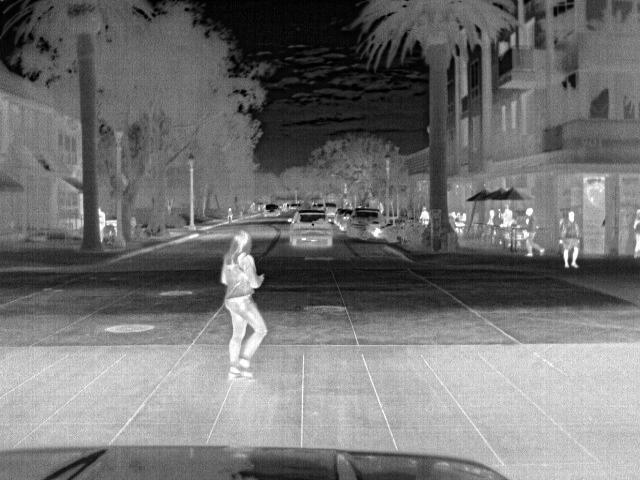car: (286, 208, 332, 249), (345, 206, 385, 236), (337, 209, 354, 231), (262, 200, 284, 216), (321, 200, 337, 221)
person: (216, 225, 270, 380), (558, 208, 584, 269), (521, 205, 545, 261), (95, 206, 108, 246), (630, 206, 639, 257), (419, 206, 431, 228), (223, 204, 236, 224), (486, 207, 499, 226)
